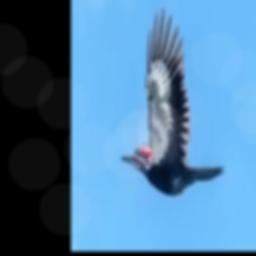Woodpecker: (121, 7, 225, 196)
